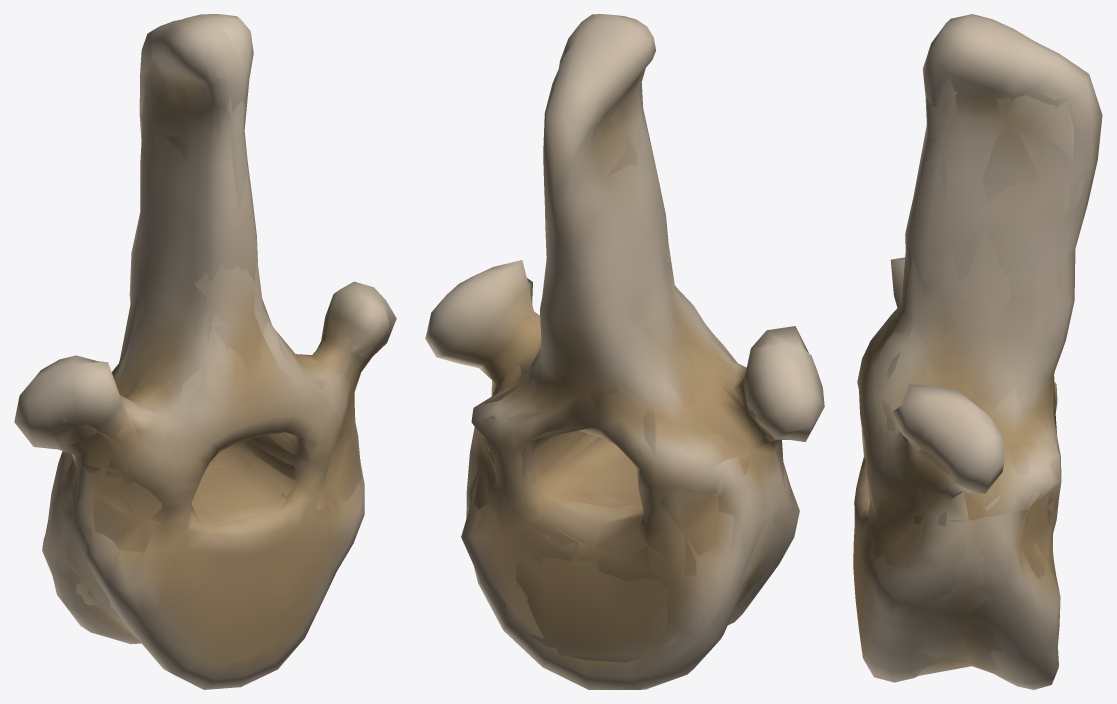
Rendered from vertebrae thoracicae 12.fbx.
The picture shows the model from 3 angles, left to right: view 1: azimuth 30°, elevation 25°; view 2: azimuth 150°, elevation 25°; view 3: azimuth 270°, elevation 25°; orthographic projection. The views are drawn at different scales.
Visible parts, largest first — view 1: vertebrae thoracicae 12, vertebrae thoracicae 12 low; view 2: vertebrae thoracicae 12, vertebrae thoracicae 12 low; view 3: vertebrae thoracicae 12, vertebrae thoracicae 12 low.
Part boxes in pixels (x1=…): vertebrae thoracicae 12: x1=14, y1=14, x2=396, y2=689; vertebrae thoracicae 12 low: x1=57, y1=70, x2=386, y2=637; vertebrae thoracicae 12: x1=425, y1=14, x2=824, y2=689; vertebrae thoracicae 12 low: x1=473, y1=83, x2=793, y2=662; vertebrae thoracicae 12: x1=853, y1=14, x2=1102, y2=689; vertebrae thoracicae 12 low: x1=865, y1=77, x2=1085, y2=675.
Size of the model in its own units: 7.8 by 12.57 by 4.27.
1 material, 1 textured.
